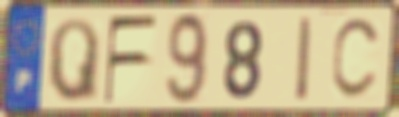8: (223, 18, 264, 101)
9: (163, 10, 210, 110)
C: (329, 16, 384, 104)
F: (103, 13, 160, 107)
I: (295, 14, 314, 105)
Q: (46, 15, 100, 104)
